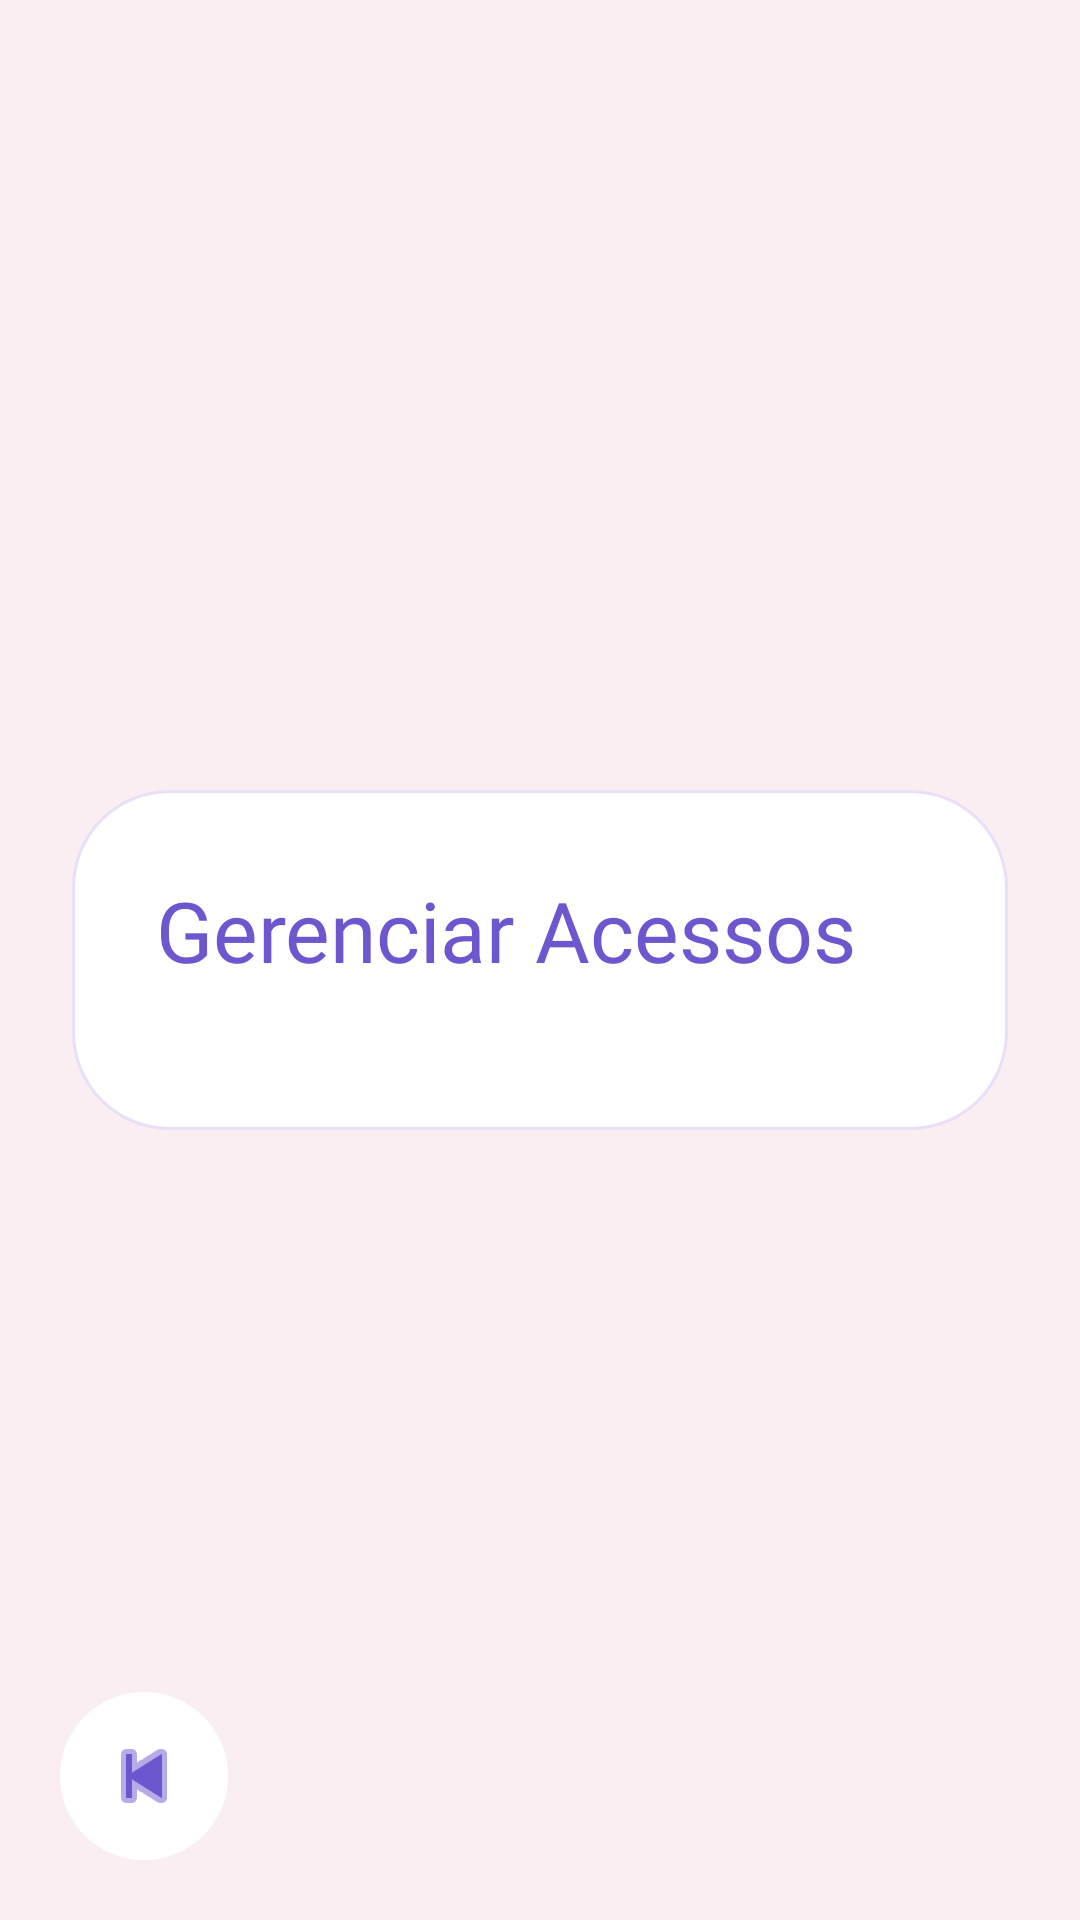

Screen size 1080×1920. Icon name, then its center in pixels as (x=x, y=y):
previous: (x=144, y=1776)
